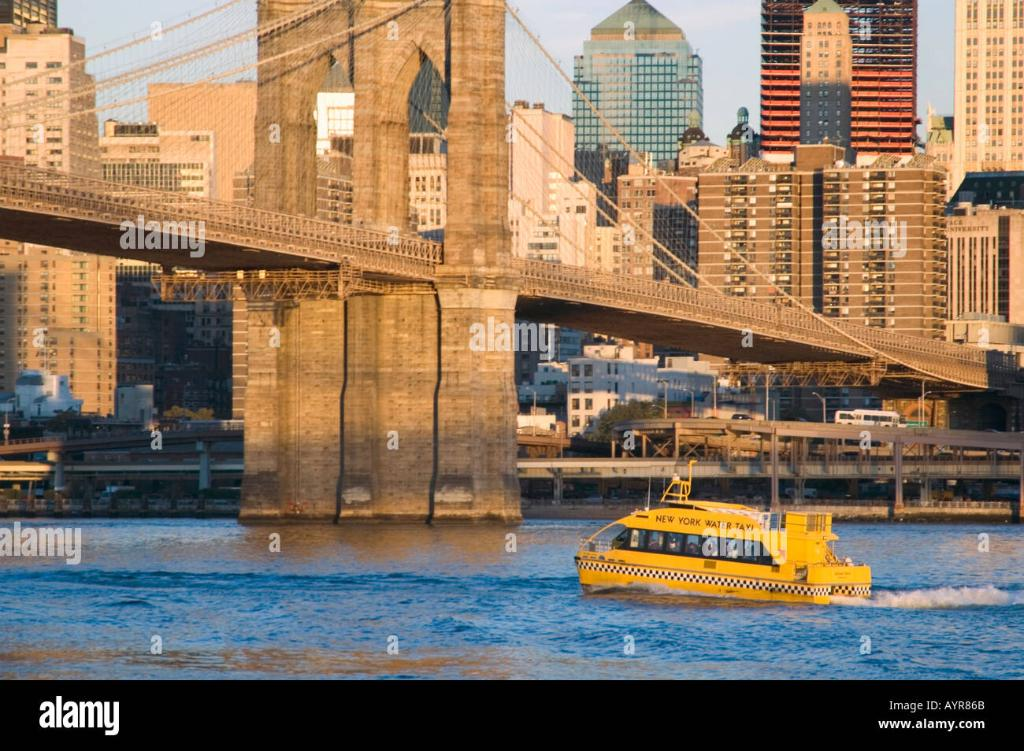PassengerShip: (556, 442, 876, 616)
